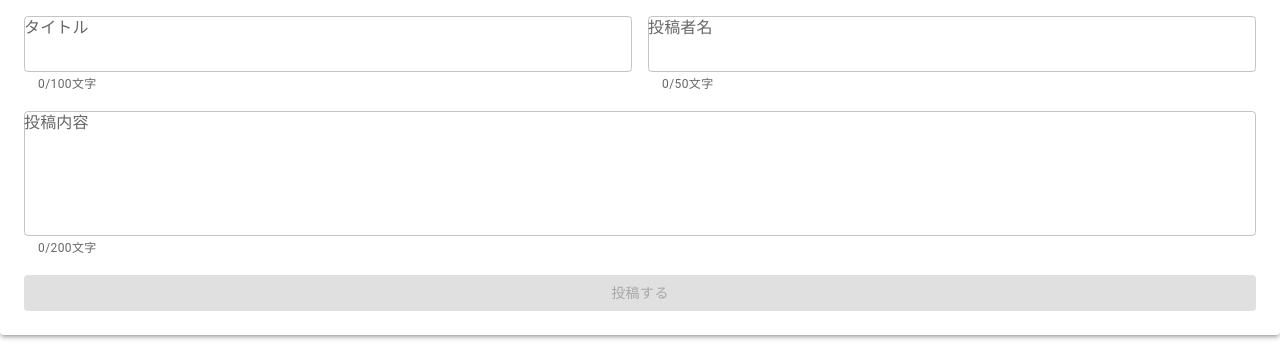
Test case: PostForm › updates character count when typing
Step 1. Type "テスト" into the field labelled "タイトル" → (328, 44), box [24,16,632,72]
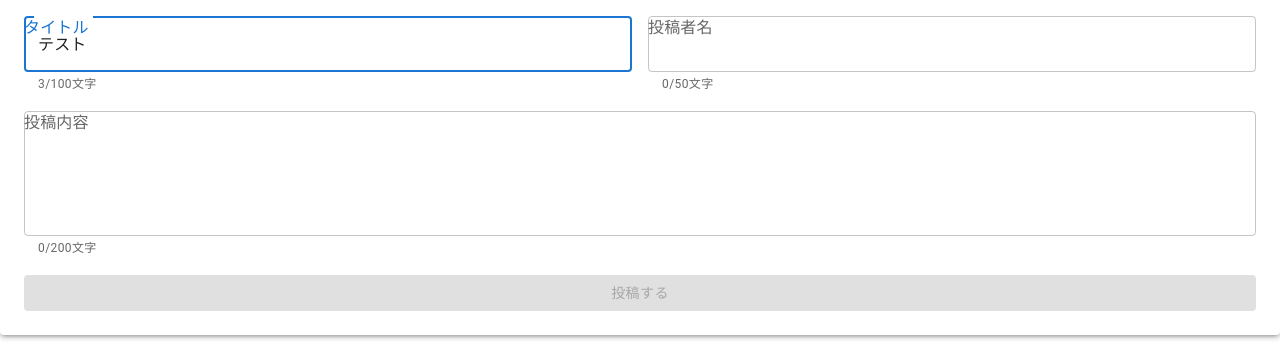
Result: the text "3/100文字" is shown at [38,77,97,91]
